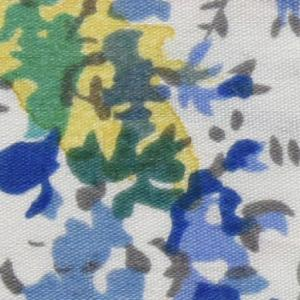Oil Stain: (1, 1, 217, 217)
